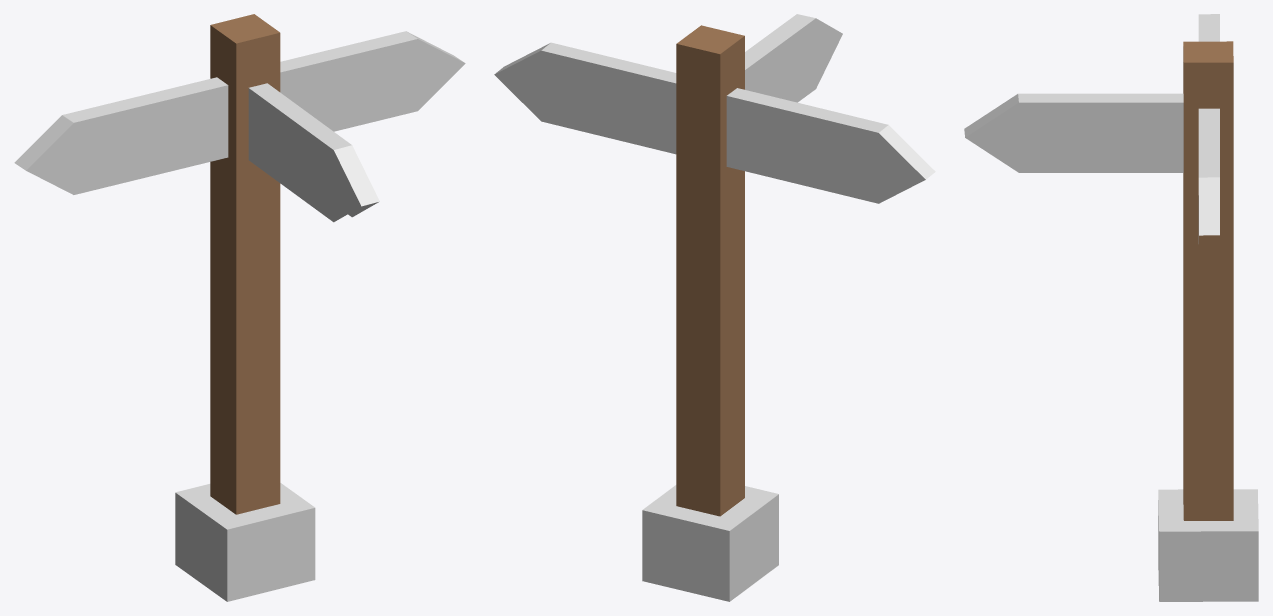
The model's file is zhuangshi_14.FBX.
The picture shows the model from 3 angles, left to right: view 1: azimuth 30°, elevation 25°; view 2: azimuth 150°, elevation 25°; view 3: azimuth 270°, elevation 25°; orthographic projection. The views are drawn at different scales.
Parts seen in each view (by area): view 1: zhuangshi_14; view 2: zhuangshi_14; view 3: zhuangshi_14.
Boxes of the visible parts, box(x1,y1,x2,y2) form: zhuangshi_14: box(14, 14, 465, 601); zhuangshi_14: box(494, 14, 935, 601); zhuangshi_14: box(964, 14, 1258, 601).
Bounding box in the file's own units: 748 × 886 × 445.
